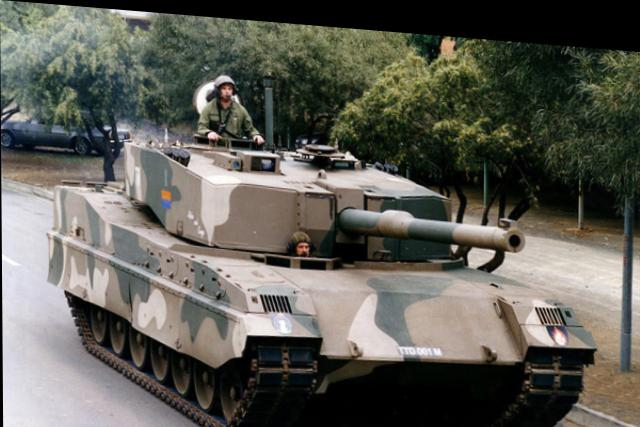other: (201, 66, 254, 134), (285, 220, 318, 252)
tank: (50, 122, 589, 426)
